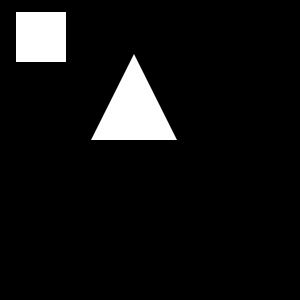circle: (16, 12, 66, 62)
triangle: (91, 54, 177, 140)
